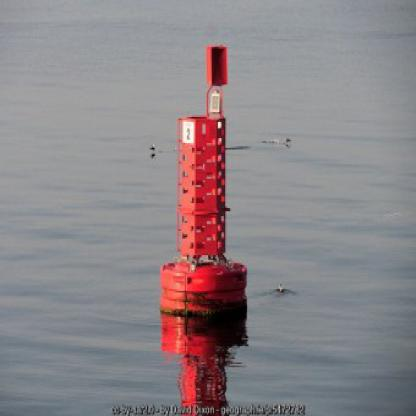buoy: (153, 38, 254, 326)
